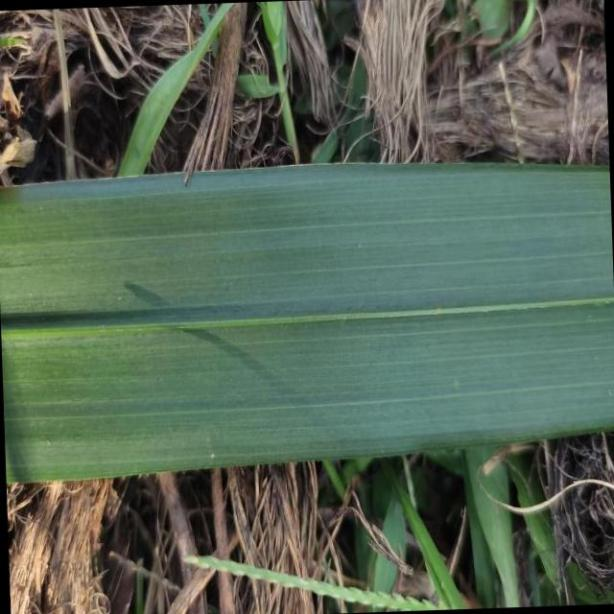Healthy: (0, 161, 614, 483)
